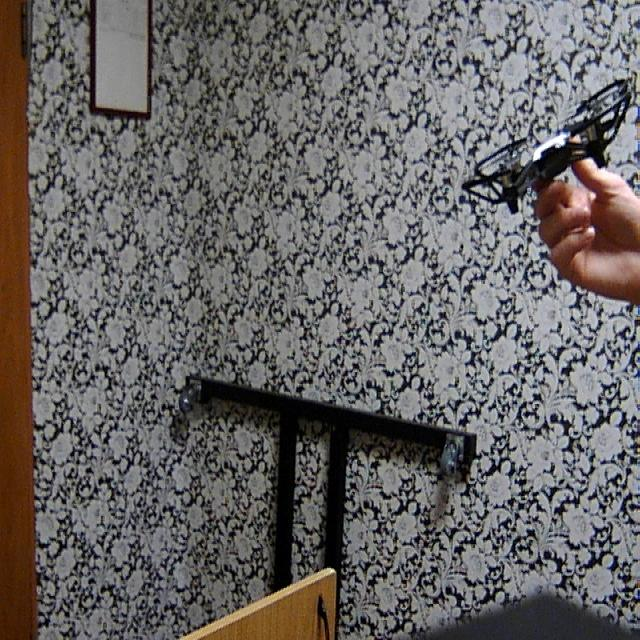drone: (444, 68, 640, 220)
